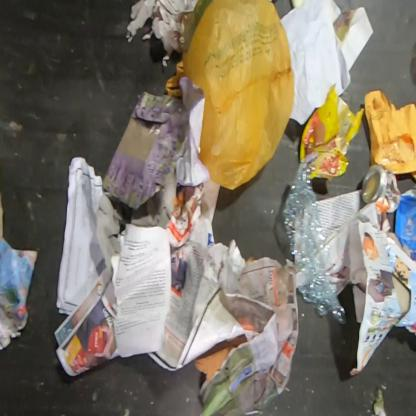cardboard: (102, 91, 187, 211), (195, 334, 249, 384)
metal: (361, 162, 401, 215)
rigid_plastic: (284, 155, 345, 324)
soft_plastic: (165, 1, 294, 188), (300, 84, 365, 180)
